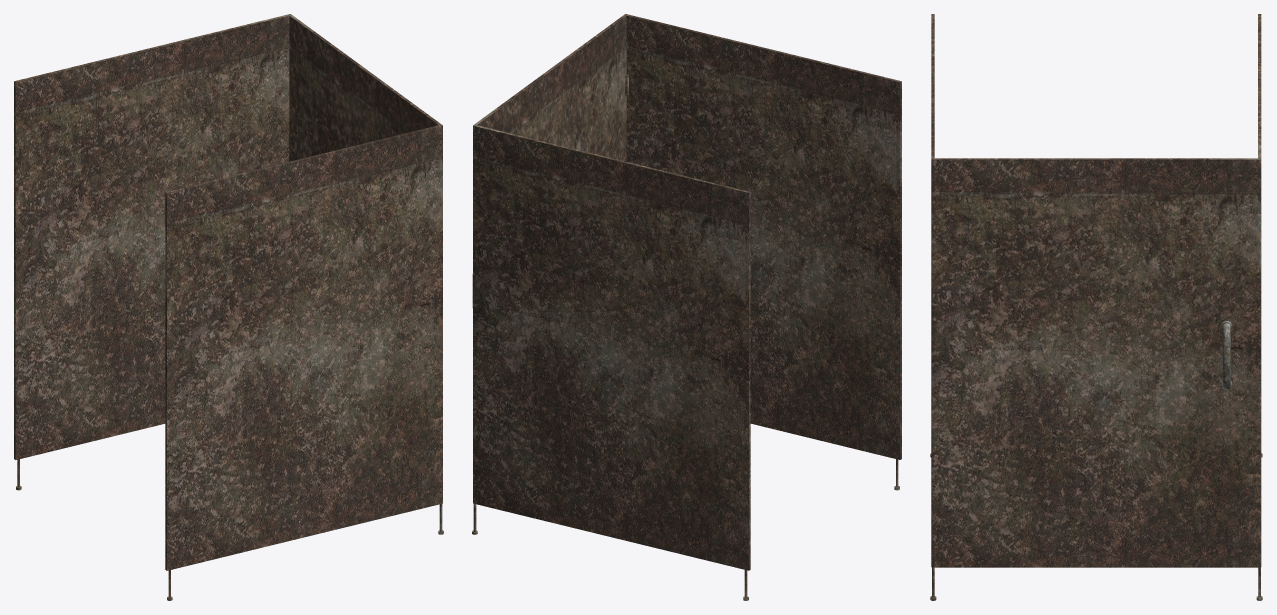
File: ToiletRoom.FBX
The picture shows the model from 3 angles, left to right: view 1: azimuth 30°, elevation 25°; view 2: azimuth 150°, elevation 25°; view 3: azimuth 270°, elevation 25°; orthographic projection. The views are drawn at different scales.
Visible parts, largest first — view 1: Base, Door; view 2: Base, Door; view 3: Door, Base.
Boxes of the visible parts, bbox=[...] form: Base: bbox=[14, 14, 443, 600]; Door: bbox=[289, 15, 441, 161]; Base: bbox=[472, 14, 901, 600]; Door: bbox=[472, 15, 626, 307]; Door: bbox=[934, 158, 1257, 567]; Base: bbox=[930, 14, 1262, 600].
Size of the model in its own units: 208 by 278 by 190.
